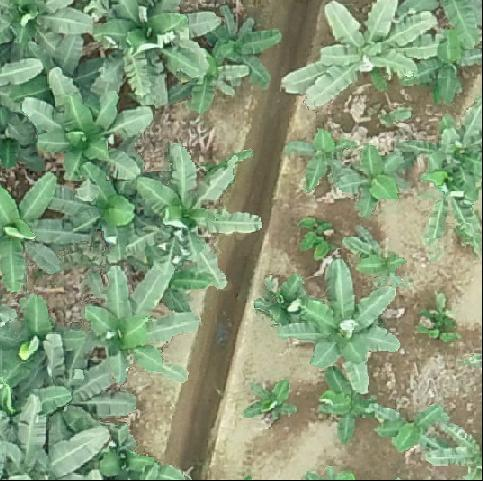Banana-plant: (130, 141, 258, 291), (276, 0, 431, 116), (276, 259, 403, 374), (94, 3, 222, 111), (22, 69, 152, 173), (90, 263, 199, 383), (406, 107, 483, 249), (44, 168, 144, 259), (0, 298, 83, 402), (0, 176, 65, 300), (206, 13, 287, 93), (0, 0, 88, 68), (338, 141, 403, 216), (315, 367, 373, 442), (287, 129, 345, 191), (254, 267, 303, 325), (246, 376, 291, 430)
